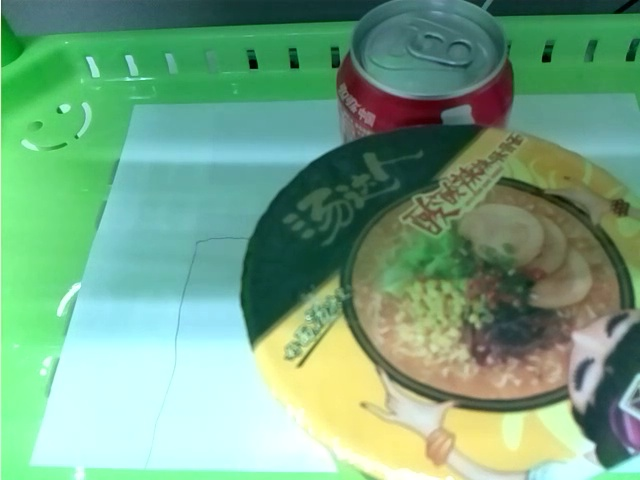cocacola: (337, 6, 514, 129)
noodles: (249, 126, 640, 480)
